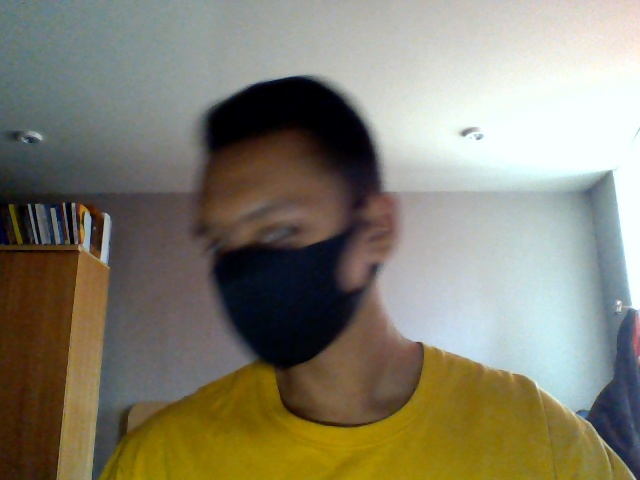mask: (205, 241, 359, 370)
